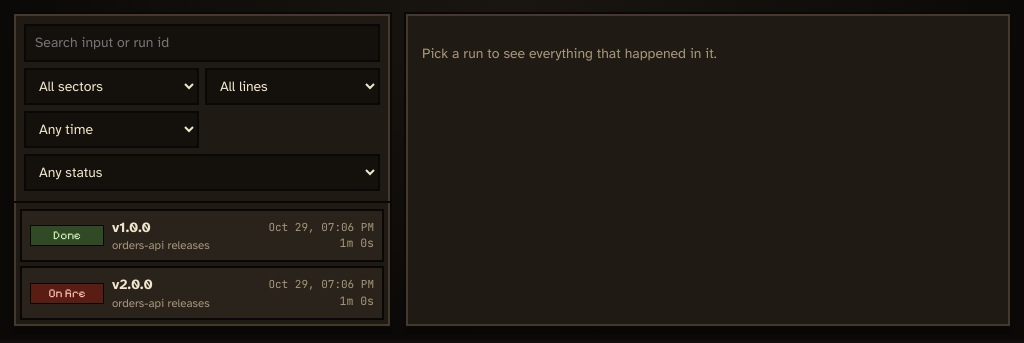
Test: The Ledger › narrows the list by status and by what you search for
Expected: the text "v2.0.0" is shown, [112, 276, 153, 293]
Select "On fire" in the dropdown named "Status" at (202, 172), box [24, 154, 380, 191]
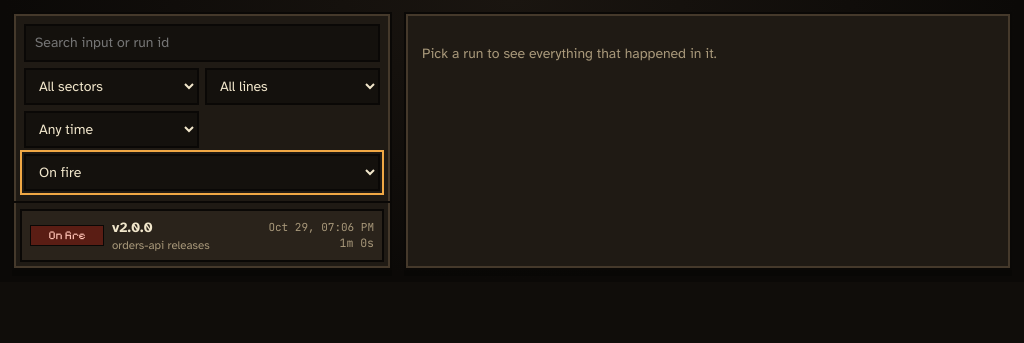
Expected: the text "v2.0.0" is shown, [112, 219, 153, 236]
Expected: the button "v1.0.0" is gone
Select "Any status" in the dropdown named "Status" at (202, 172), box [24, 154, 380, 191]
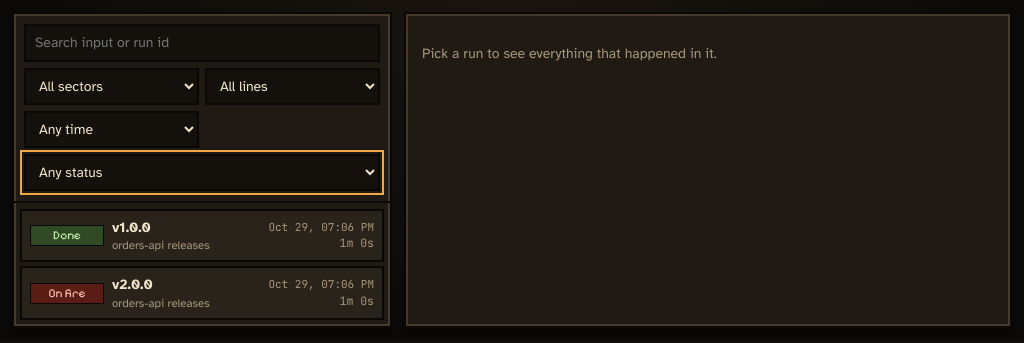
Type "v1.0" into the field named "Search runs".
click(202, 43); type("v1.0")  # box [24, 24, 380, 62]
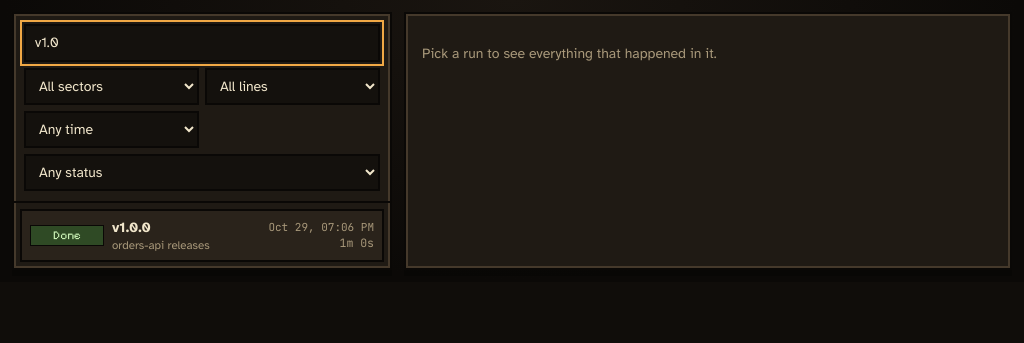
Expected: the text "v1.0.0" is shown, [112, 219, 151, 236]
Expected: the button "v2.0.0" is gone
